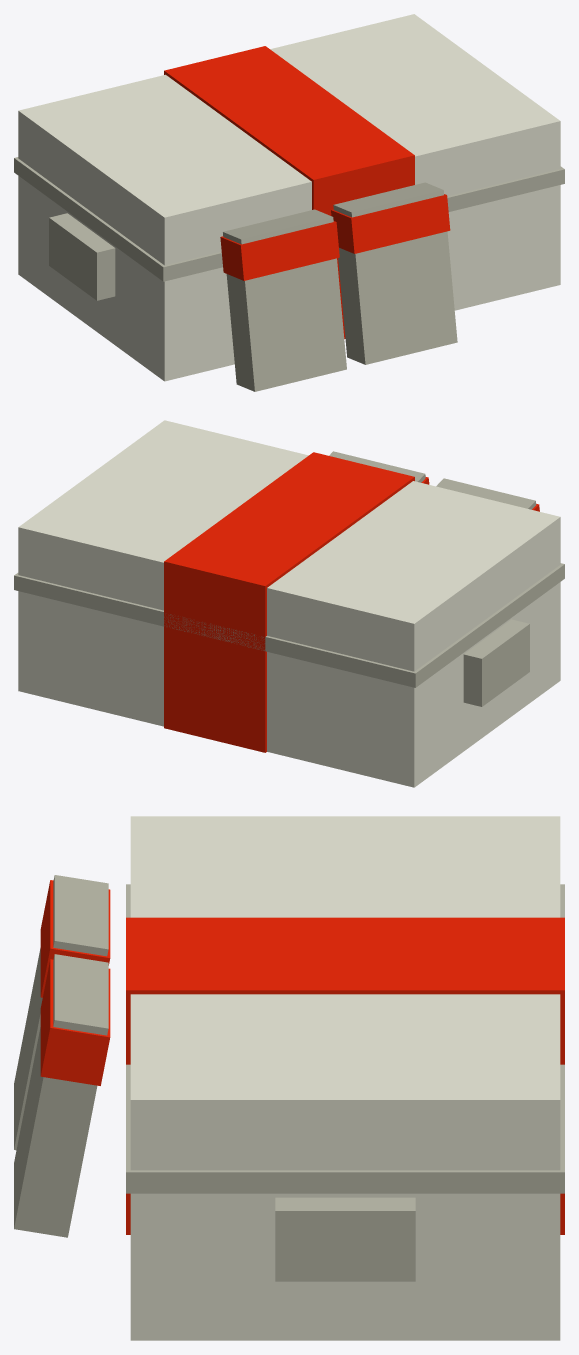
Rendered from ce_ammo_chmag_conc_c.obj.
3 views of the same model, one above another, from view 1: azimuth 30°, elevation 25°; view 2: azimuth 150°, elevation 25°; view 3: azimuth 270°, elevation 25° (orthographic). The views are drawn at different scales.
Parts seen in each view (by area): view 1: ce_ammo_chmag_conc_c_0, ce_ammo_chmag_conc_c_1, ce_ammo_chmag_conc_c_5, ce_ammo_chmag_conc_c_7, ce_ammo_chmag_conc_c_2, ce_ammo_chmag_conc_c_6, ce_ammo_chmag_conc_c_8, ce_ammo_chmag_conc_c_3; view 2: ce_ammo_chmag_conc_c_0, ce_ammo_chmag_conc_c_1, ce_ammo_chmag_conc_c_2, ce_ammo_chmag_conc_c_3, ce_ammo_chmag_conc_c_5, ce_ammo_chmag_conc_c_7; view 3: ce_ammo_chmag_conc_c_0, ce_ammo_chmag_conc_c_1, ce_ammo_chmag_conc_c_7, ce_ammo_chmag_conc_c_4, ce_ammo_chmag_conc_c_2, ce_ammo_chmag_conc_c_5, ce_ammo_chmag_conc_c_8, ce_ammo_chmag_conc_c_6.
Boxes of the visible parts, box(x1,y1,x2,y2) form: ce_ammo_chmag_conc_c_0: box(18, 14, 560, 381); ce_ammo_chmag_conc_c_1: box(164, 46, 414, 338); ce_ammo_chmag_conc_c_5: box(223, 209, 346, 391); ce_ammo_chmag_conc_c_7: box(333, 182, 457, 364); ce_ammo_chmag_conc_c_2: box(14, 157, 564, 281); ce_ammo_chmag_conc_c_6: box(220, 221, 339, 280); ce_ammo_chmag_conc_c_8: box(331, 194, 450, 253); ce_ammo_chmag_conc_c_3: box(49, 213, 115, 300); ce_ammo_chmag_conc_c_0: box(18, 420, 560, 787); ce_ammo_chmag_conc_c_1: box(164, 452, 414, 752); ce_ammo_chmag_conc_c_2: box(14, 563, 564, 687); ce_ammo_chmag_conc_c_3: box(463, 619, 529, 706); ce_ammo_chmag_conc_c_5: box(436, 478, 536, 509); ce_ammo_chmag_conc_c_7: box(329, 451, 425, 482); ce_ammo_chmag_conc_c_0: box(130, 816, 560, 1340); ce_ammo_chmag_conc_c_1: box(126, 917, 564, 1234); ce_ammo_chmag_conc_c_7: box(14, 954, 108, 1237); ce_ammo_chmag_conc_c_4: box(275, 1197, 415, 1281); ce_ammo_chmag_conc_c_2: box(126, 884, 564, 1193); ce_ammo_chmag_conc_c_5: box(14, 875, 108, 1150); ce_ammo_chmag_conc_c_8: box(40, 959, 110, 1085); ce_ammo_chmag_conc_c_6: box(40, 880, 110, 997).
Size of the model in its own units: 0.94 by 0.346 by 0.7055.
